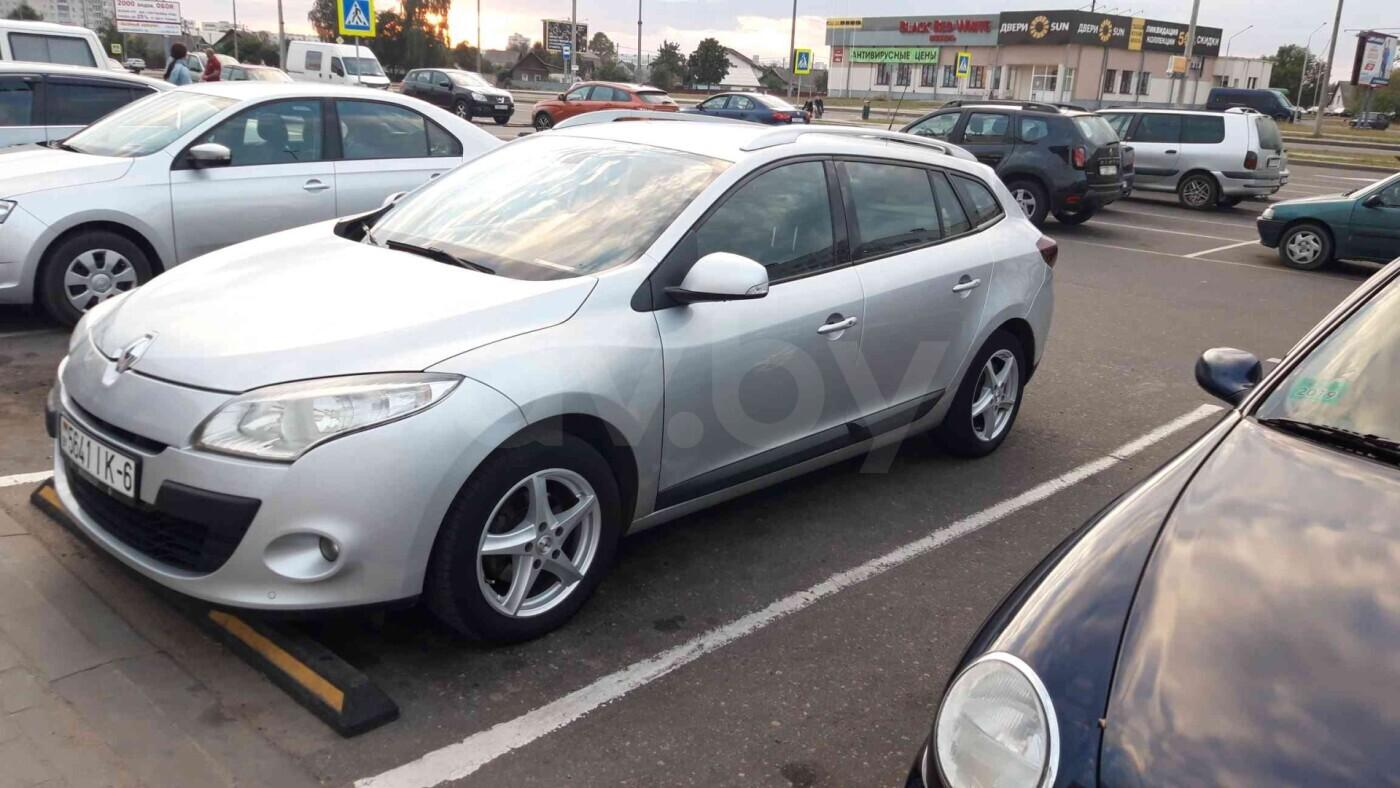Megane_2008-2014: (40, 111, 1057, 641)
